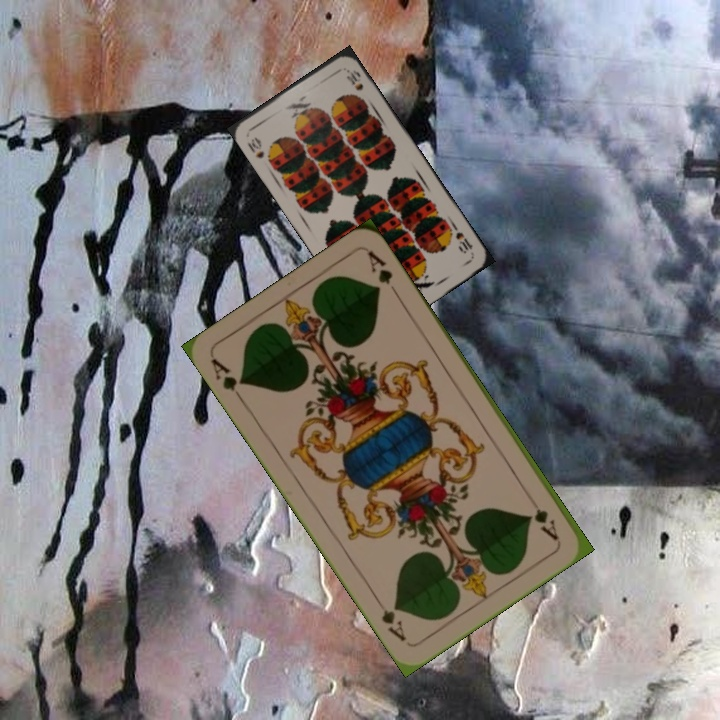GA: (206, 354, 248, 406), (525, 490, 561, 544)
S10: (451, 228, 475, 256), (244, 133, 267, 161)
